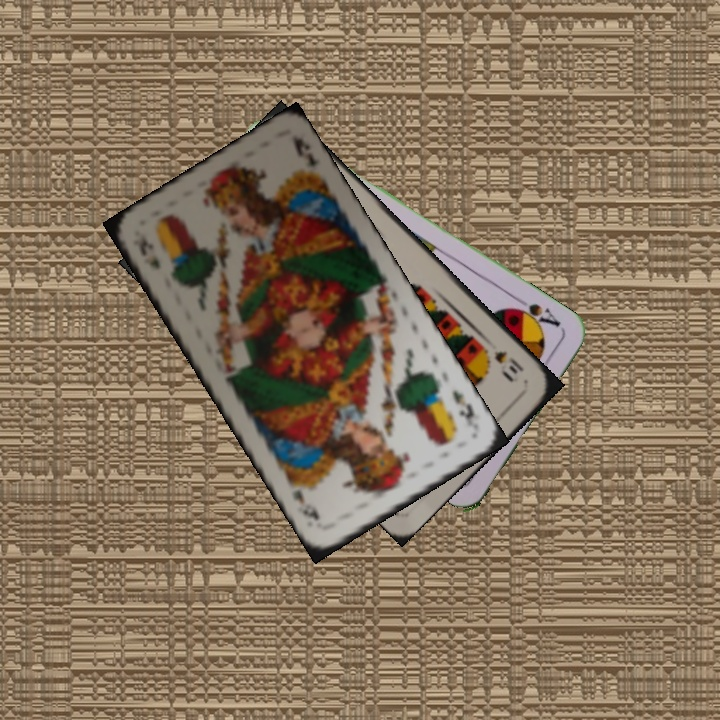EK: (448, 386, 478, 423), (135, 232, 163, 271)
S10: (490, 346, 527, 384)
SA: (507, 294, 564, 332)
